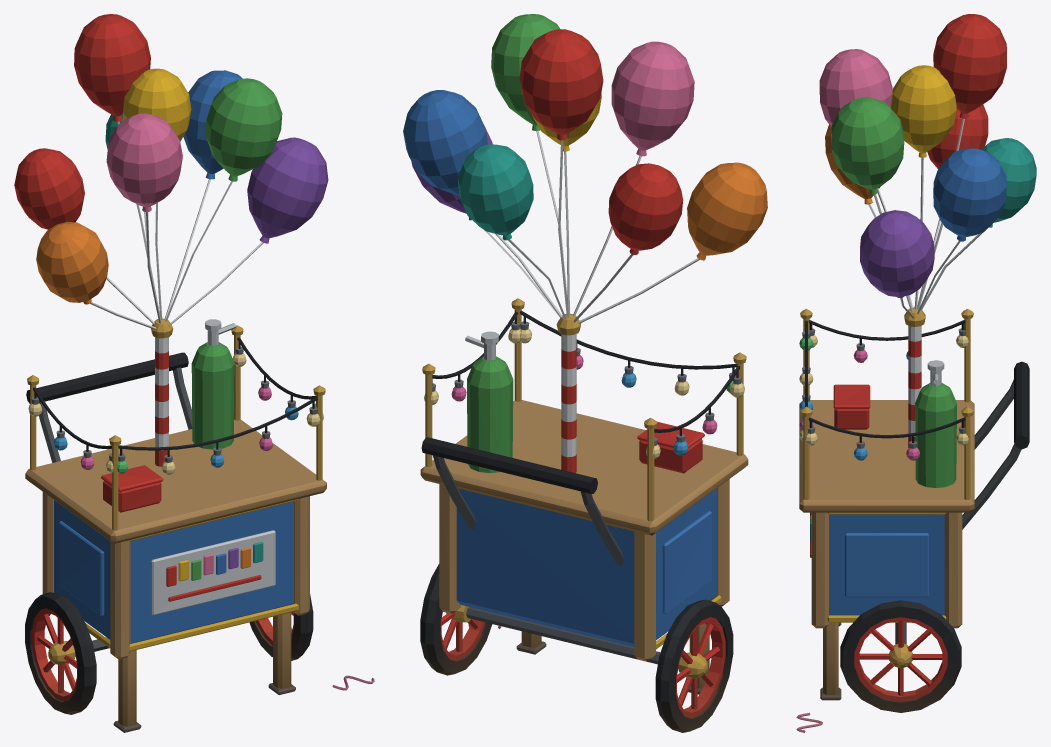
Rendered from balloon-cart.glb.
3 views of the same model, side by side, from view 1: azimuth 30°, elevation 25°; view 2: azimuth 150°, elevation 25°; view 3: azimuth 270°, elevation 25° (orthographic). The views are drawn at different scales.
Visible parts, largest first — view 1: balloon_cart; view 2: balloon_cart; view 3: balloon_cart.
Boxes of the visible parts, bbox=[...] form: balloon_cart: bbox=[14, 14, 374, 732]; balloon_cart: bbox=[403, 14, 767, 732]; balloon_cart: bbox=[796, 14, 1036, 732].
Bounding box in the file's own units: 0.9881 × 1.99 × 0.6865.
